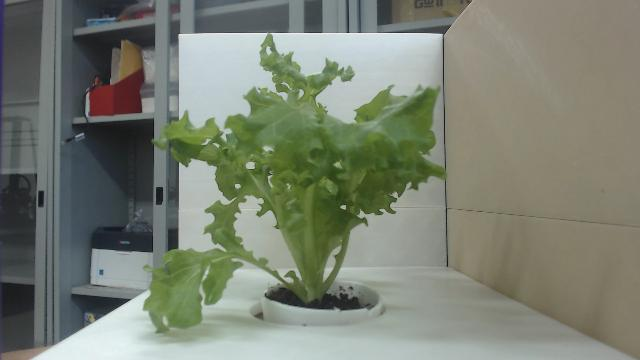Harvest Stage: (144, 32, 448, 334)
